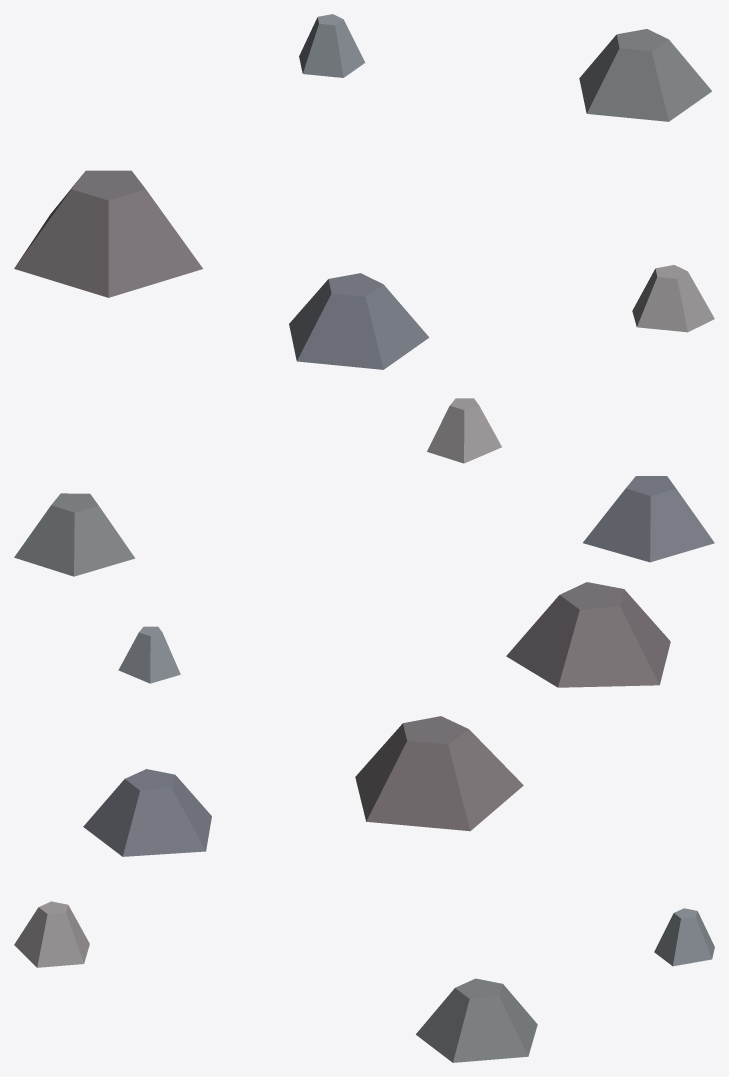
File: Rocks_Round_s_03.fbx
The picture shows the model from 3 angles, top to bottom: view 1: azimuth 30°, elevation 25°; view 2: azimuth 150°, elevation 25°; view 3: azimuth 270°, elevation 25°; orthographic projection. The views are drawn at different scales.
Visible parts, largest first — view 1: Rocks_Round_s_03; view 2: Rocks_Round_s_03; view 3: Rocks_Round_s_03.
Part boxes in pixels (x1,y1,x2,y2): Rocks_Round_s_03: (14, 14, 714, 369); Rocks_Round_s_03: (14, 398, 714, 687); Rocks_Round_s_03: (14, 716, 714, 1062).
Size of the model in its own units: 0.5649 by 0.0555 by 0.5388.
